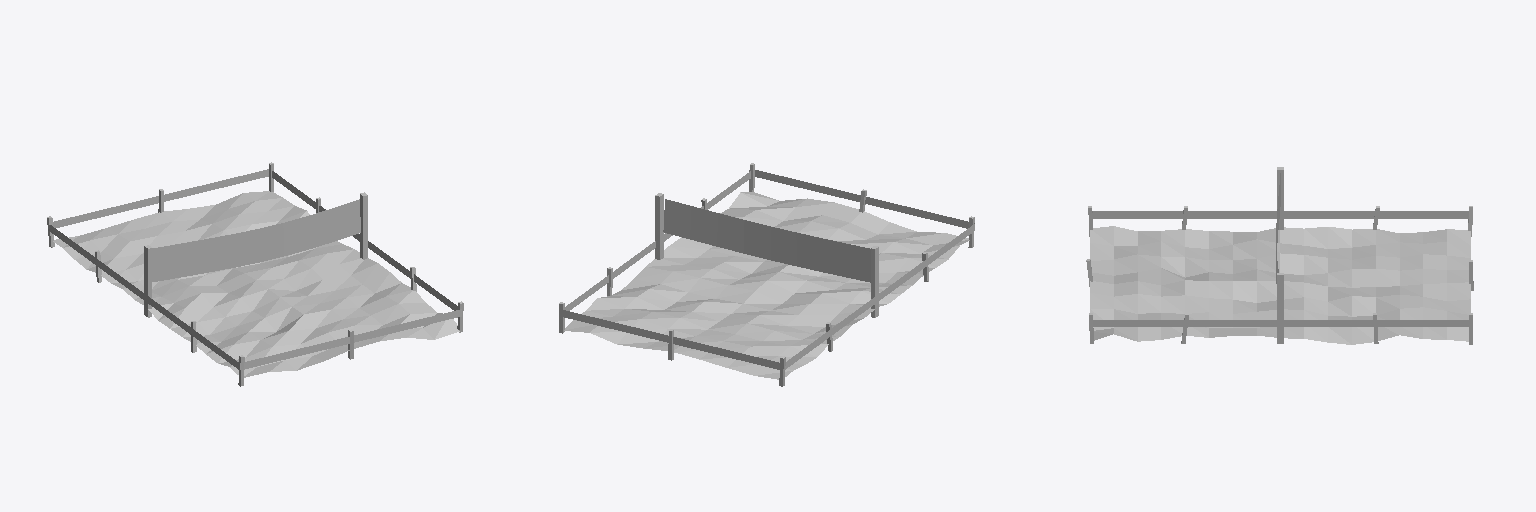
File: court3.obj
3 views of the same model, side by side, from view 1: azimuth 30°, elevation 25°; view 2: azimuth 150°, elevation 25°; view 3: azimuth 270°, elevation 25° (orthographic).
Visible parts, largest first — view 1: Plane, Plane.001; view 2: Plane, Plane.001; view 3: Plane.
Part boxes in pixels (x1,y1,x2,y2): Plane: (47, 162, 463, 386); Plane.001: (152, 199, 360, 281); Plane: (559, 163, 974, 386); Plane.001: (663, 199, 870, 282); Plane: (1086, 167, 1473, 344).
Bounding box in the file's own units: 20.45 × 6.09 × 30.46.